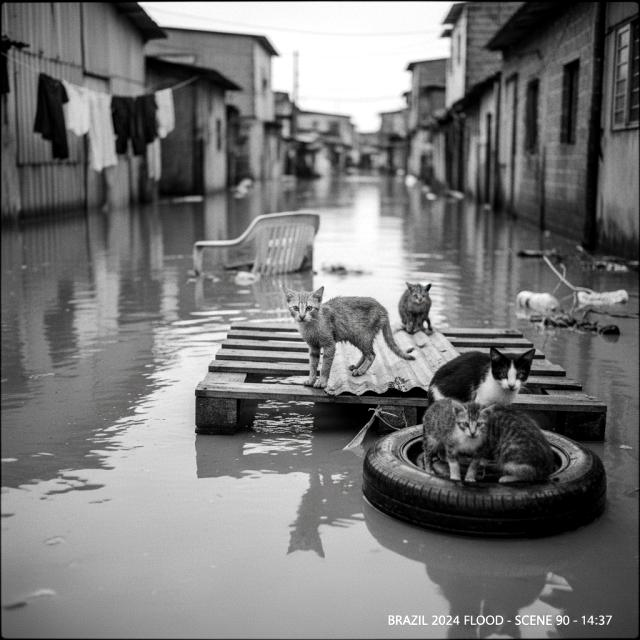cat: (276, 283, 417, 382), (414, 392, 498, 484), (480, 402, 562, 486), (432, 345, 545, 402), (388, 270, 458, 340)
